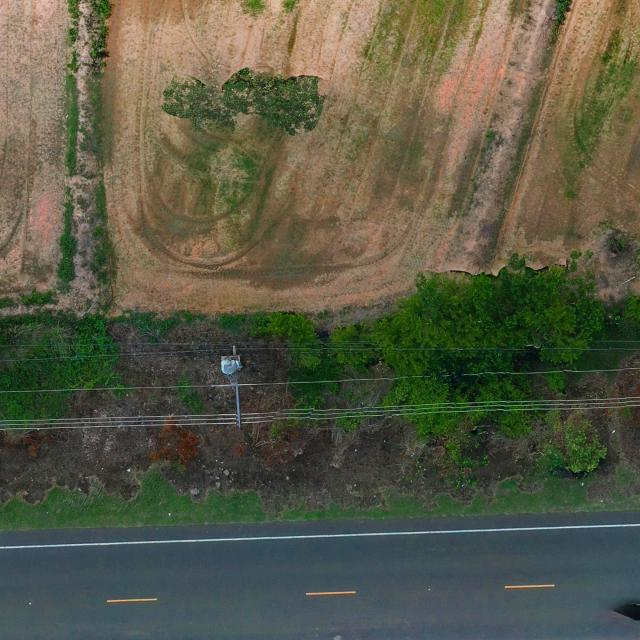Tree: (372, 262, 611, 447), (158, 60, 330, 134)
